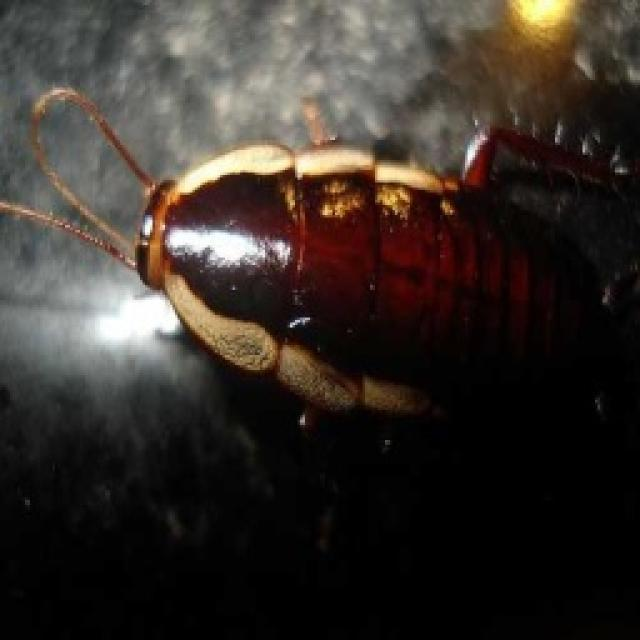cockroach: (62, 89, 616, 449)
